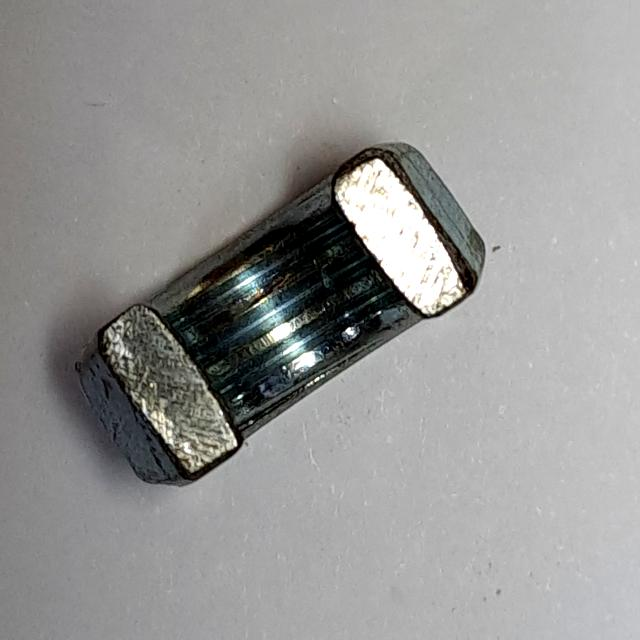Side-Fracture: (64, 132, 494, 508)
